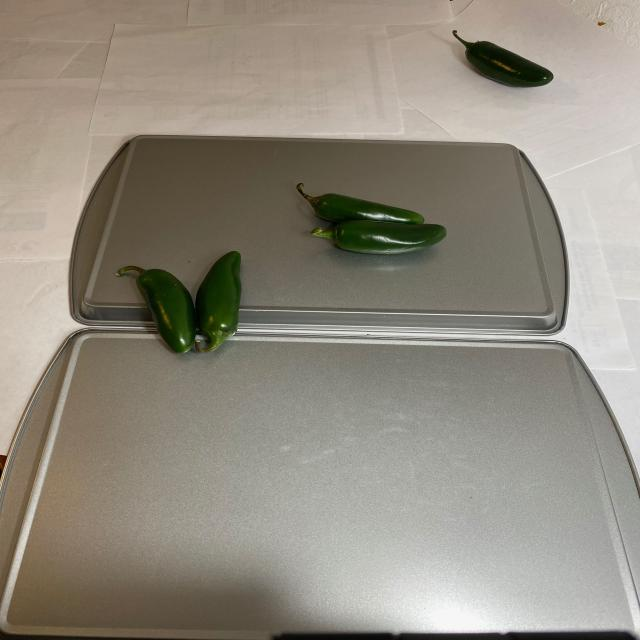chilli: (114, 248, 250, 364), (290, 181, 450, 256), (439, 26, 563, 100)
